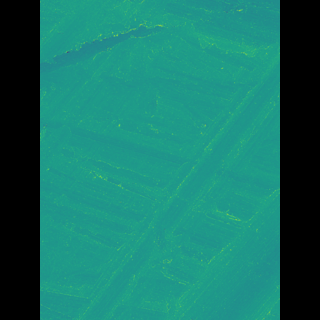Loch: (95, 22, 248, 319), (69, 3, 203, 234)
